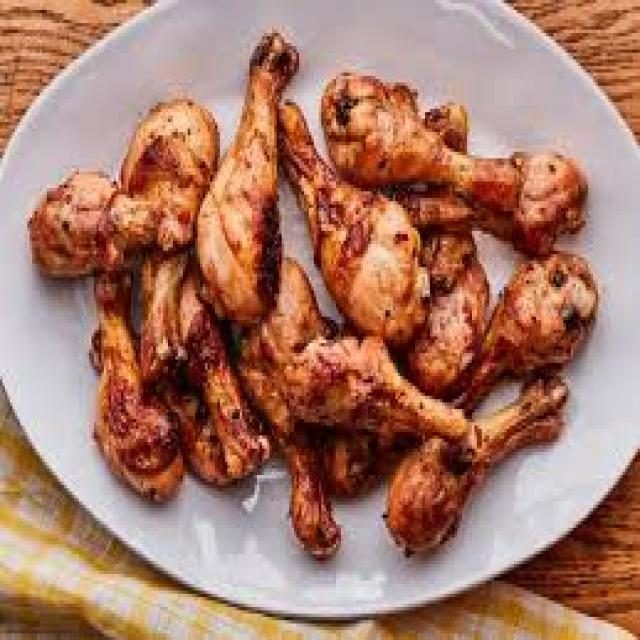Frango: (29, 23, 596, 568)
